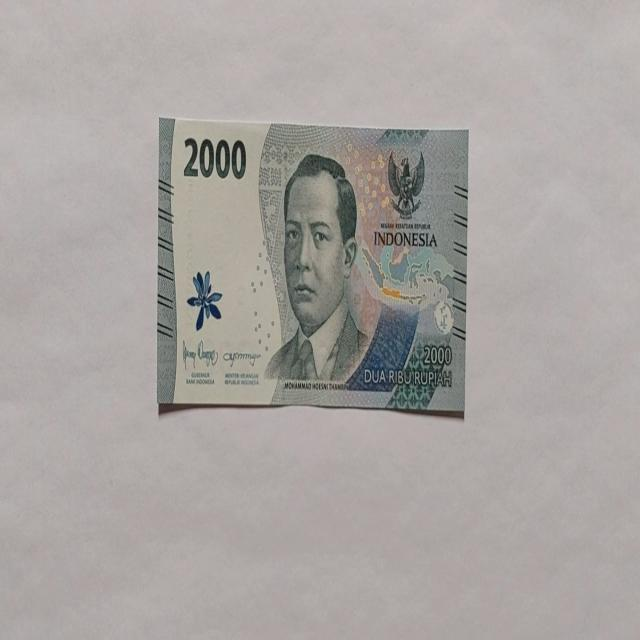dua ribu rupiah: (157, 117, 469, 416), (263, 152, 371, 385)
